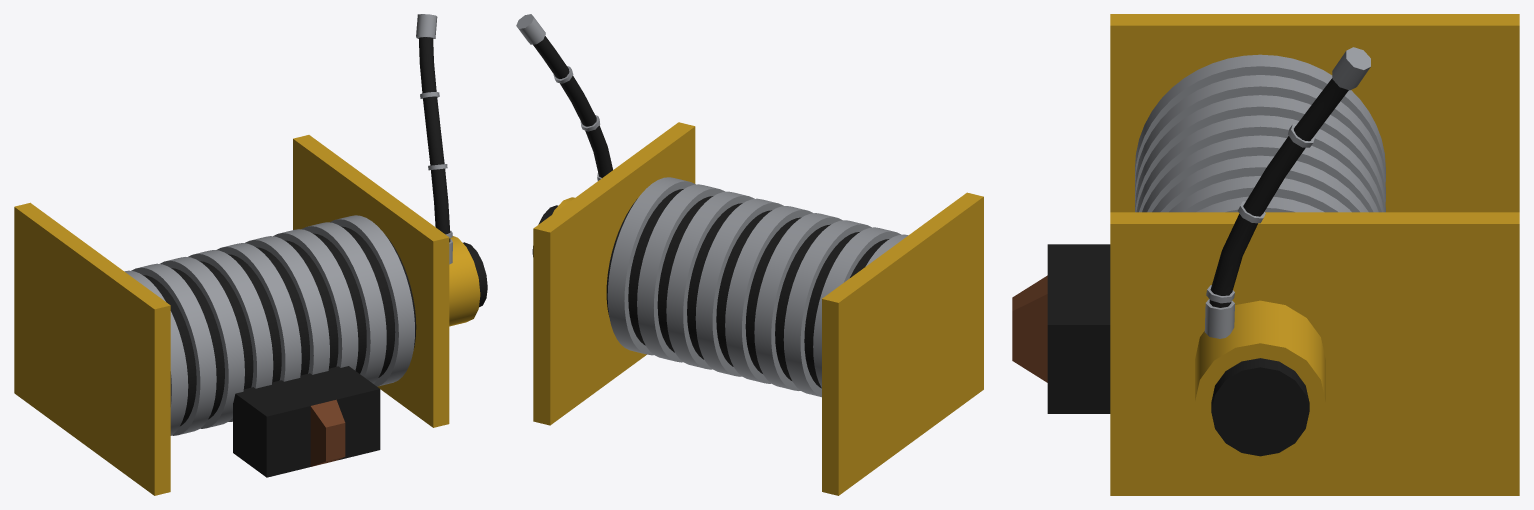
File: trh_winch.obj
3 renders of one model, left to right at view 1: azimuth 30°, elevation 25°; view 2: azimuth 150°, elevation 25°; view 3: azimuth 270°, elevation 25°, orthographic. The views are drawn at different scales.
Visible parts, largest first — view 1: trh_winch; view 2: trh_winch; view 3: trh_winch.
Boxes of the visible parts, x1,y1,x2,y2 form: trh_winch: [14, 14, 487, 495]; trh_winch: [516, 14, 983, 495]; trh_winch: [1012, 14, 1519, 495].
Size of the model in its own units: 2.27 by 1.98 by 1.86.
